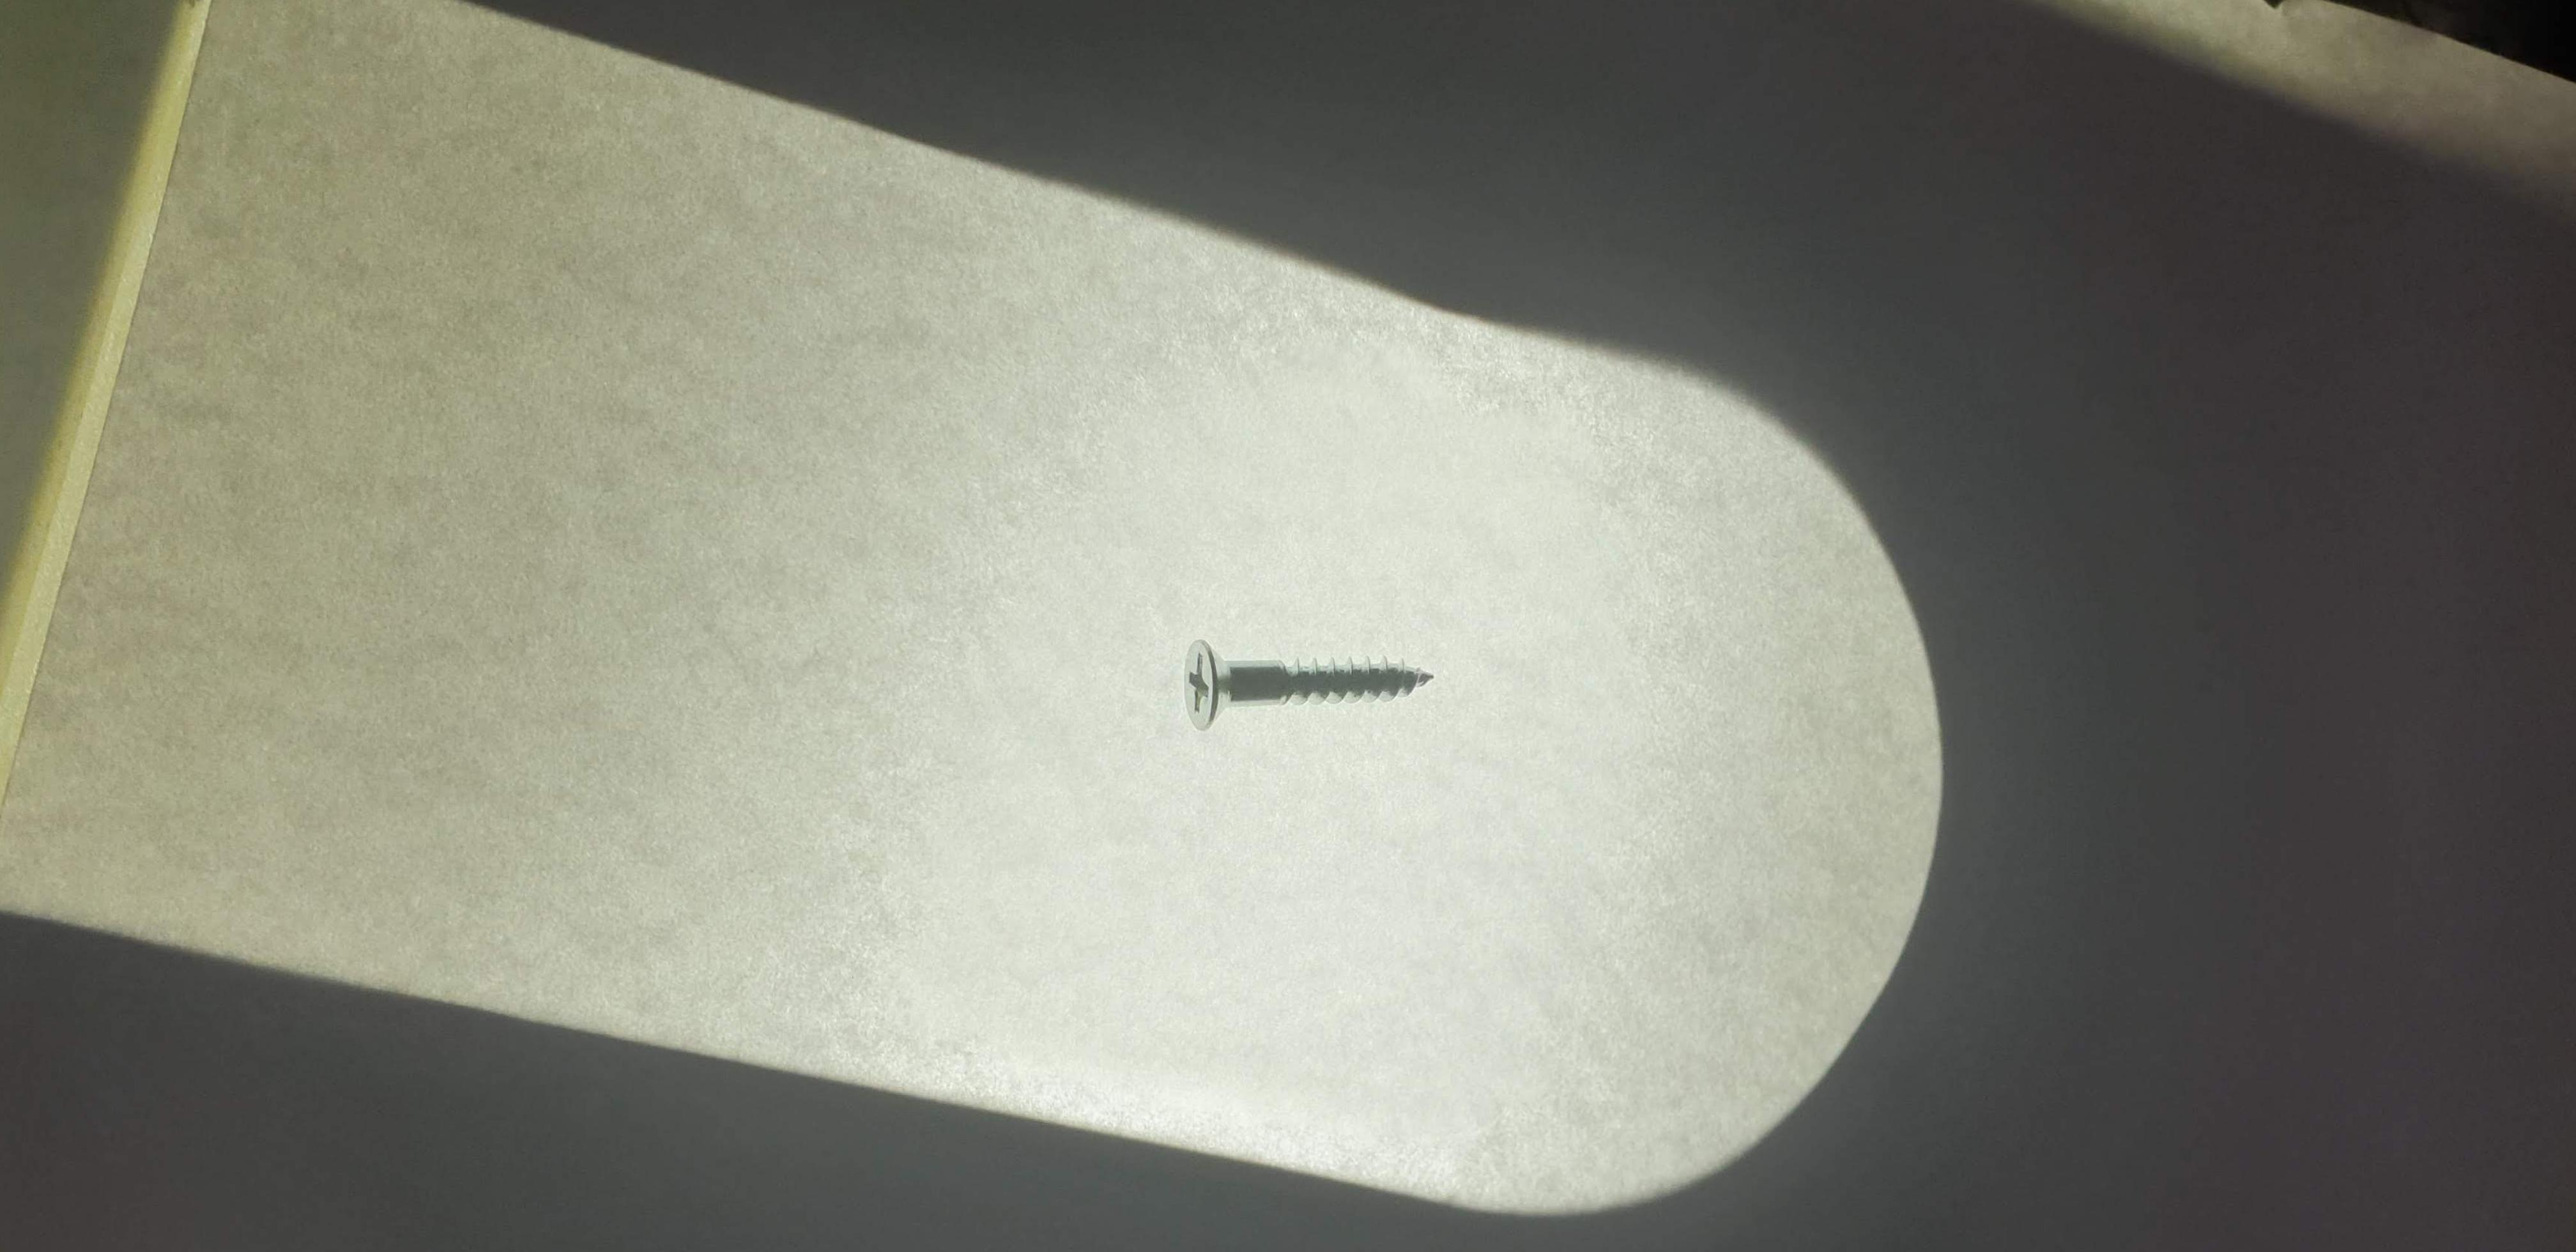S005: (1153, 598, 1513, 762)
